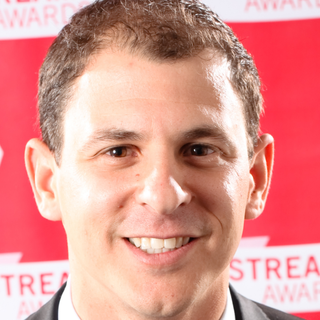eye: (87, 132, 149, 169), (172, 132, 232, 169)
